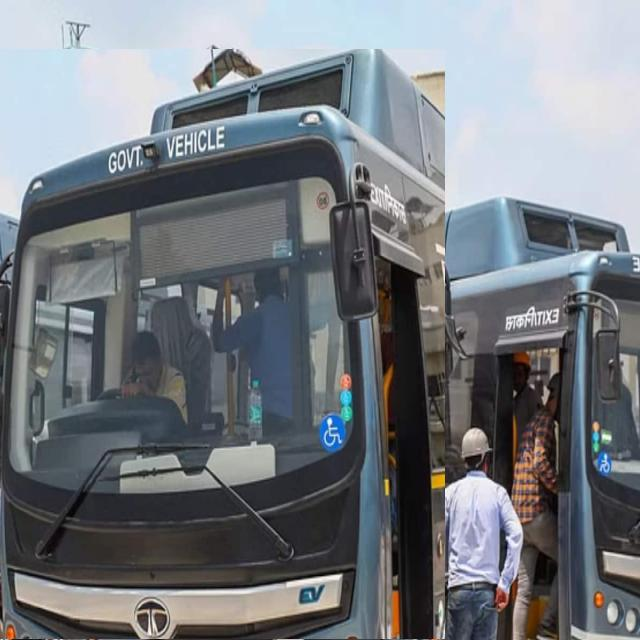bus: (0, 49, 445, 639), (428, 197, 640, 638)
